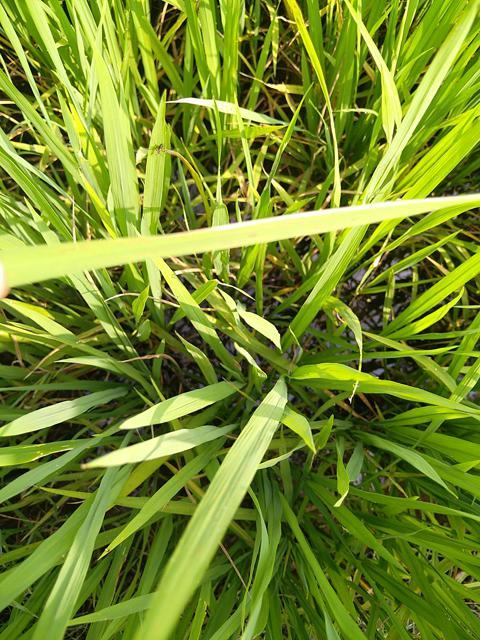Leaf Blight: (171, 193, 479, 235)
